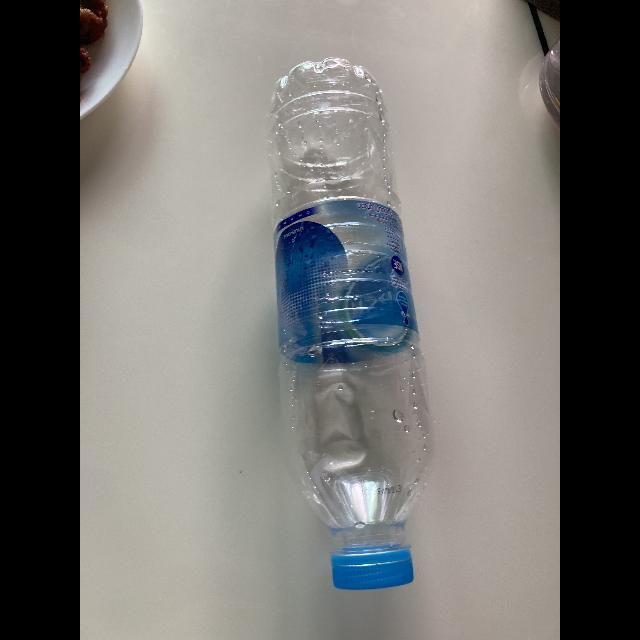plastic_bottle: (262, 54, 438, 594)
